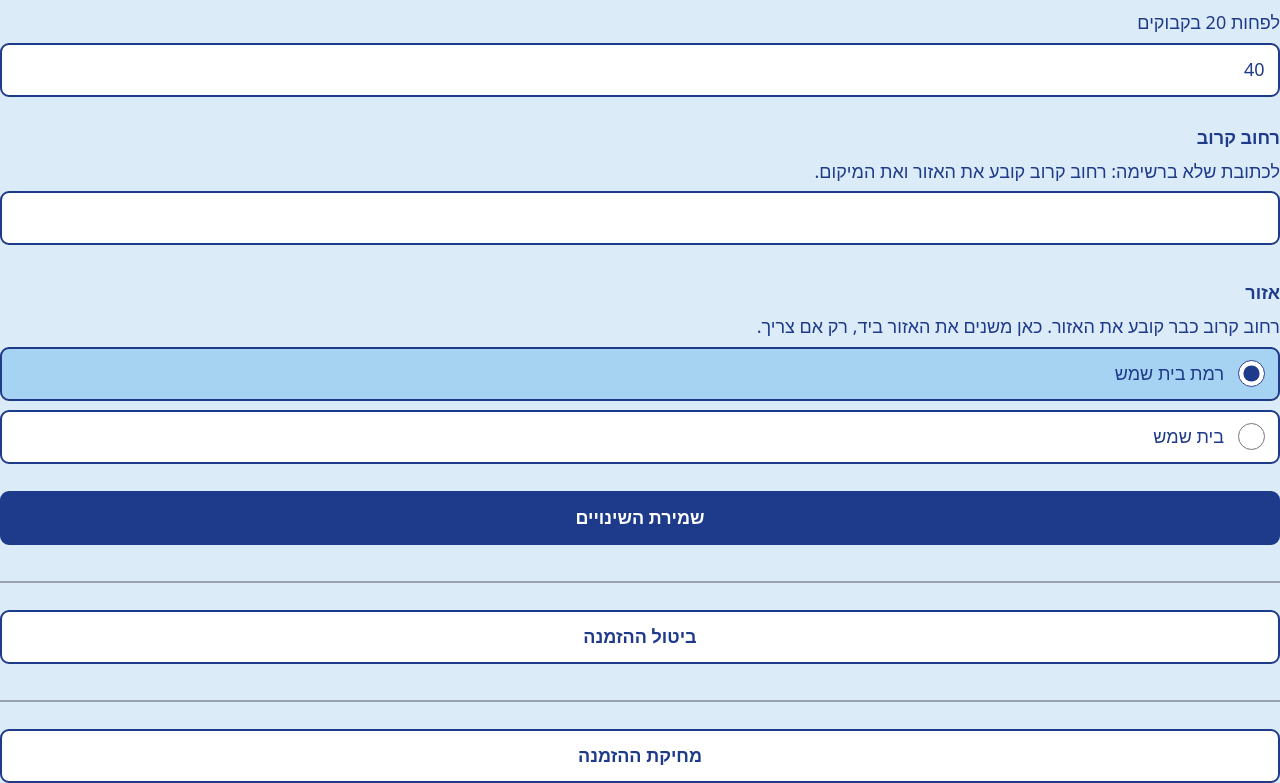
EditOrderScreen › saving › shows an api error no field shows above the button
The width and height of the screenshot is (1280, 783).
(page scrolled)
Click the button "שמירת השינויים". click: (640, 518)
box: top-left (0, 491), bottom-right (1279, 545)
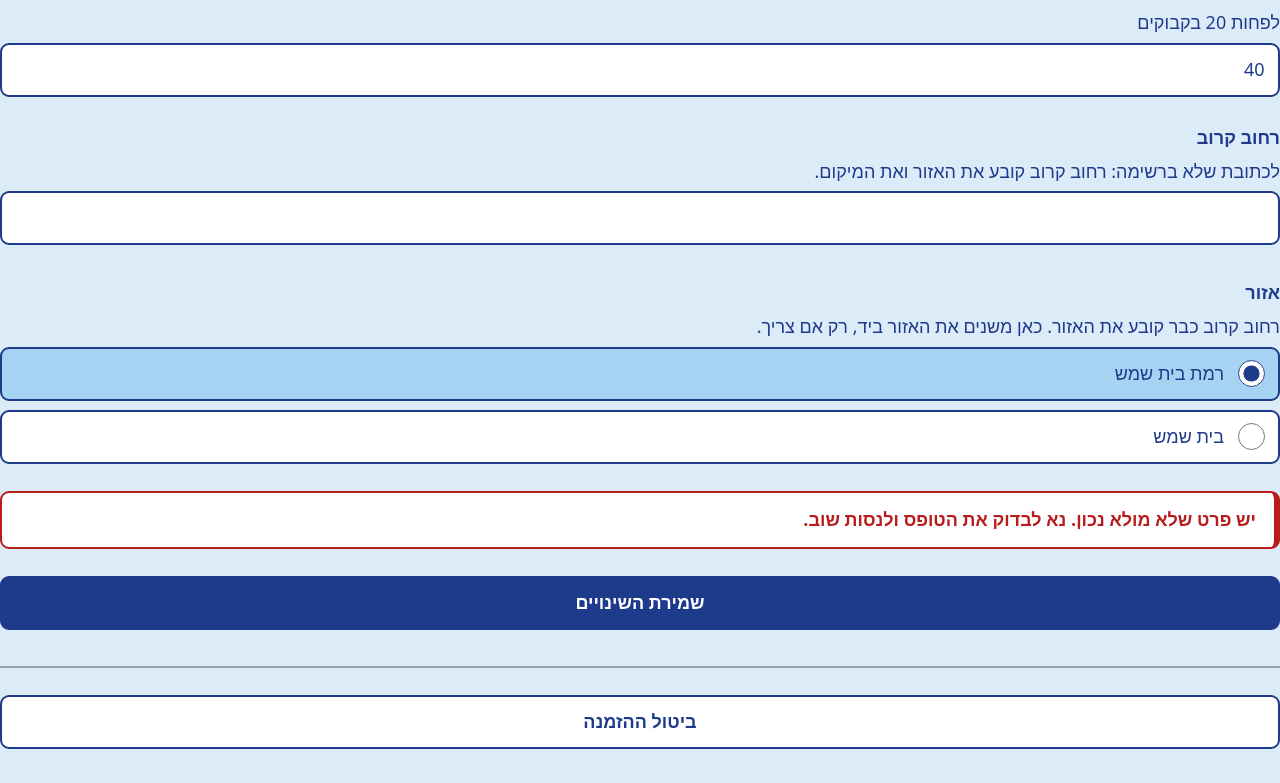
Expected: the message reads "יש פרט שלא מולא נכון. נא לבדוק את הטופס ולנסות שוב.", top-left (803, 507), bottom-right (1256, 531)
